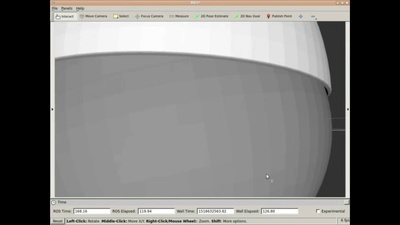mira_robot: (56, 23, 333, 194)
